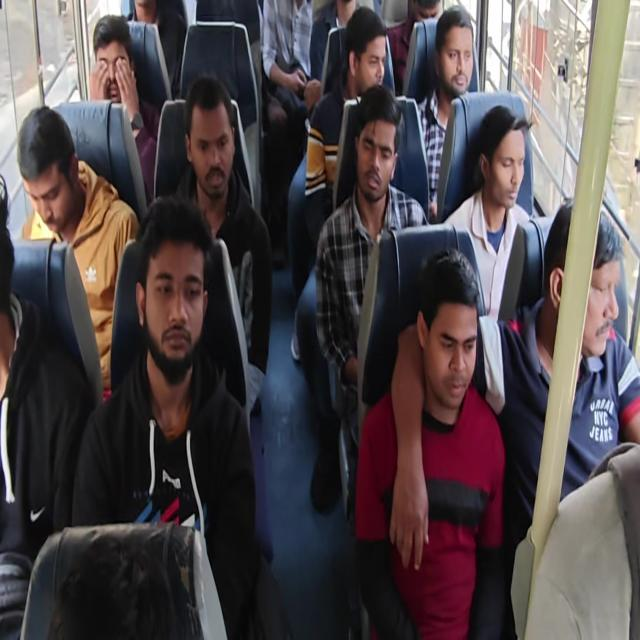person: (2, 1, 638, 638), (390, 203, 640, 637), (70, 194, 257, 638), (354, 247, 506, 638), (312, 84, 430, 512), (0, 174, 96, 638), (16, 105, 140, 401), (173, 75, 273, 432), (304, 6, 387, 246), (442, 104, 532, 323), (88, 14, 159, 202), (416, 7, 474, 222), (260, 0, 321, 131), (126, 0, 187, 97), (386, 0, 442, 95), (309, 0, 356, 91)
